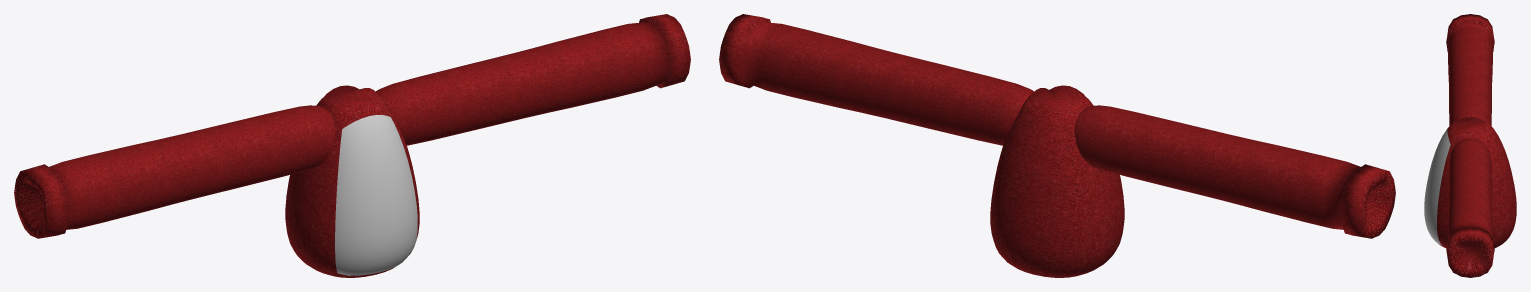
Rendered from Hoodie.fbx.
3 renders of one model, left to right at view 1: azimuth 30°, elevation 25°; view 2: azimuth 150°, elevation 25°; view 3: azimuth 270°, elevation 25°, orthographic. The views are drawn at different scales.
Parts seen in each view (by area): view 1: Hoodie; view 2: Hoodie; view 3: Hoodie.
Boxes of the visible parts, x1,y1,x2,y2 form: Hoodie: [14, 14, 690, 277]; Hoodie: [719, 14, 1395, 277]; Hoodie: [1424, 14, 1516, 277].
Bounding box in the file's own units: 779 × 199 × 138.
